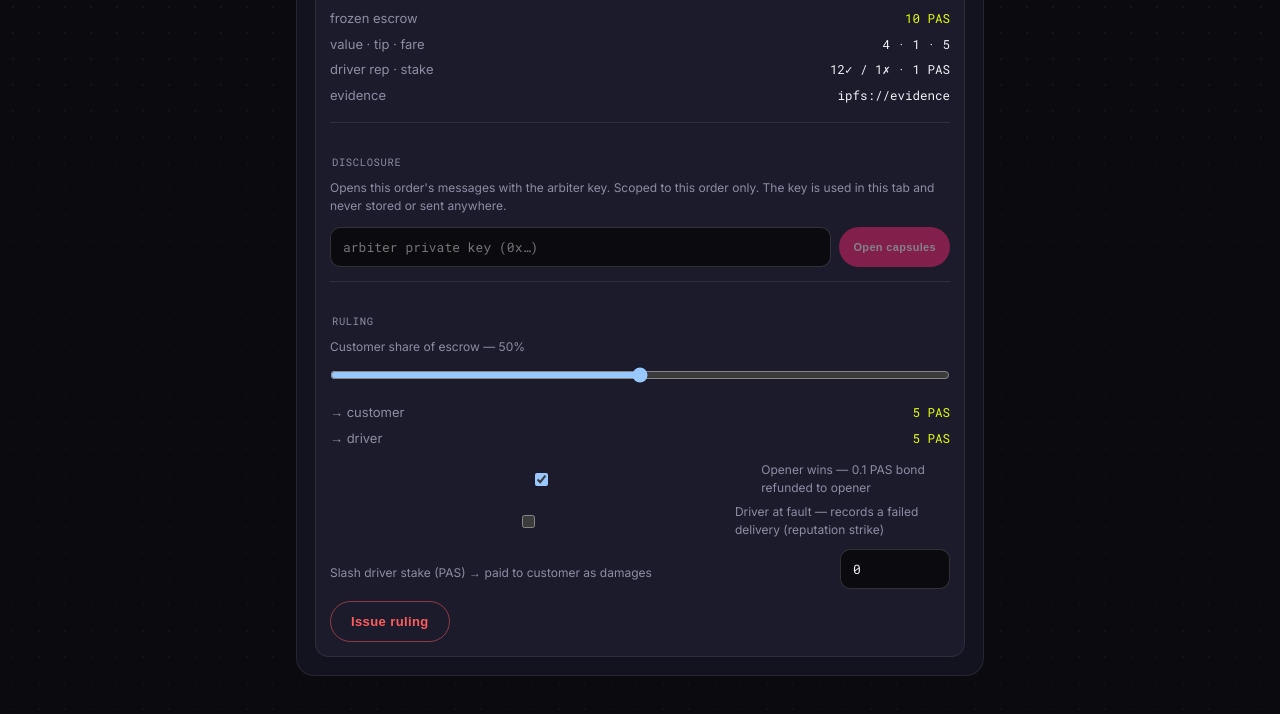
Scenario: the slash warning › warns when the slash exceeds the driver's stake
This screenshot has width=1280, height=714.
(page scrolled)
Expected: the slider is shown, [330,356,950,394]
Replace the text in the field showing "0" with "5" at x=895, y=569, box [840,549,950,589]
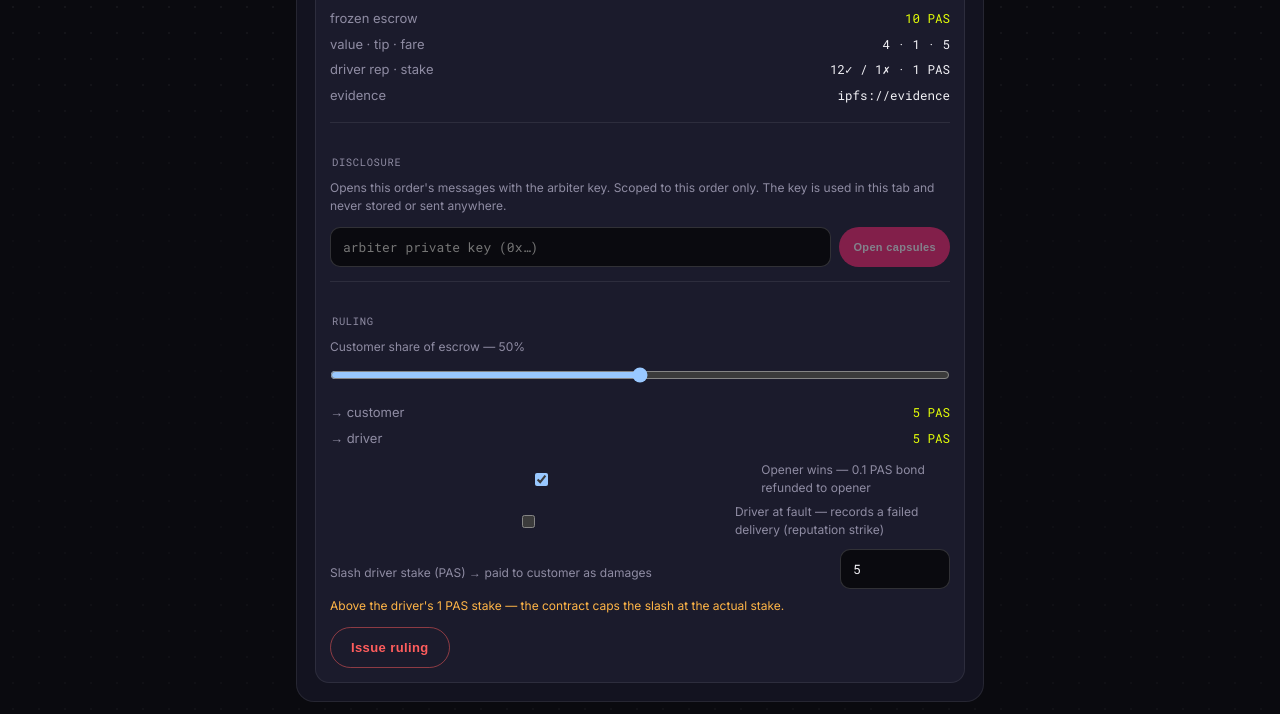
Result: the text "caps the slash at the actual stake" is shown at [442,598,784,613]
